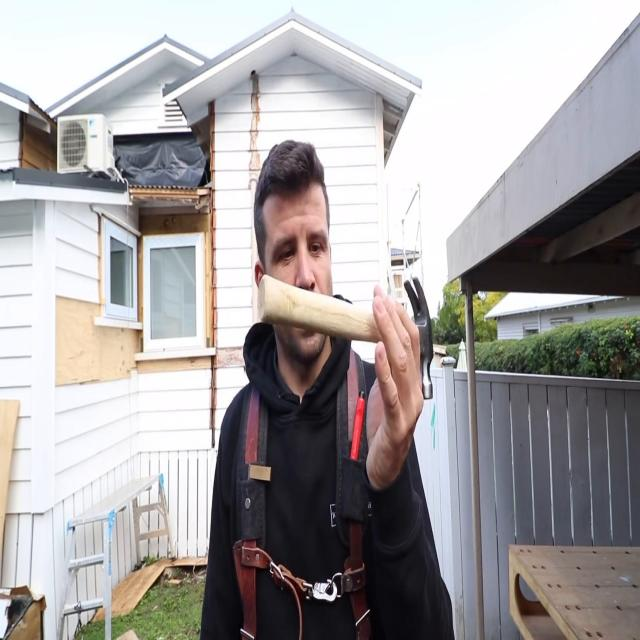hammer: (257, 267, 436, 404)
